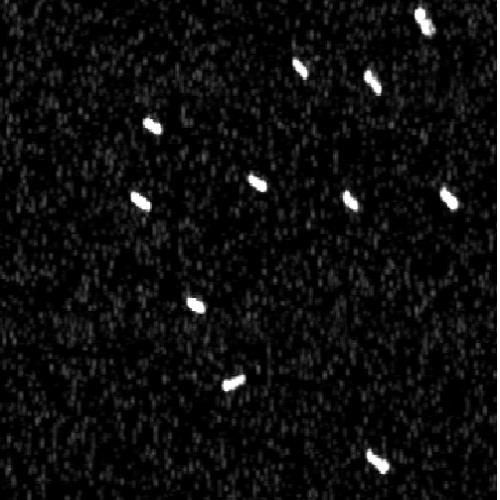ship: (413, 6, 437, 38), (365, 448, 391, 476), (220, 372, 246, 393), (439, 185, 460, 211), (130, 190, 153, 212), (141, 115, 165, 136), (364, 69, 382, 97), (185, 294, 207, 315), (247, 173, 268, 193), (342, 188, 359, 212), (291, 58, 309, 80)
